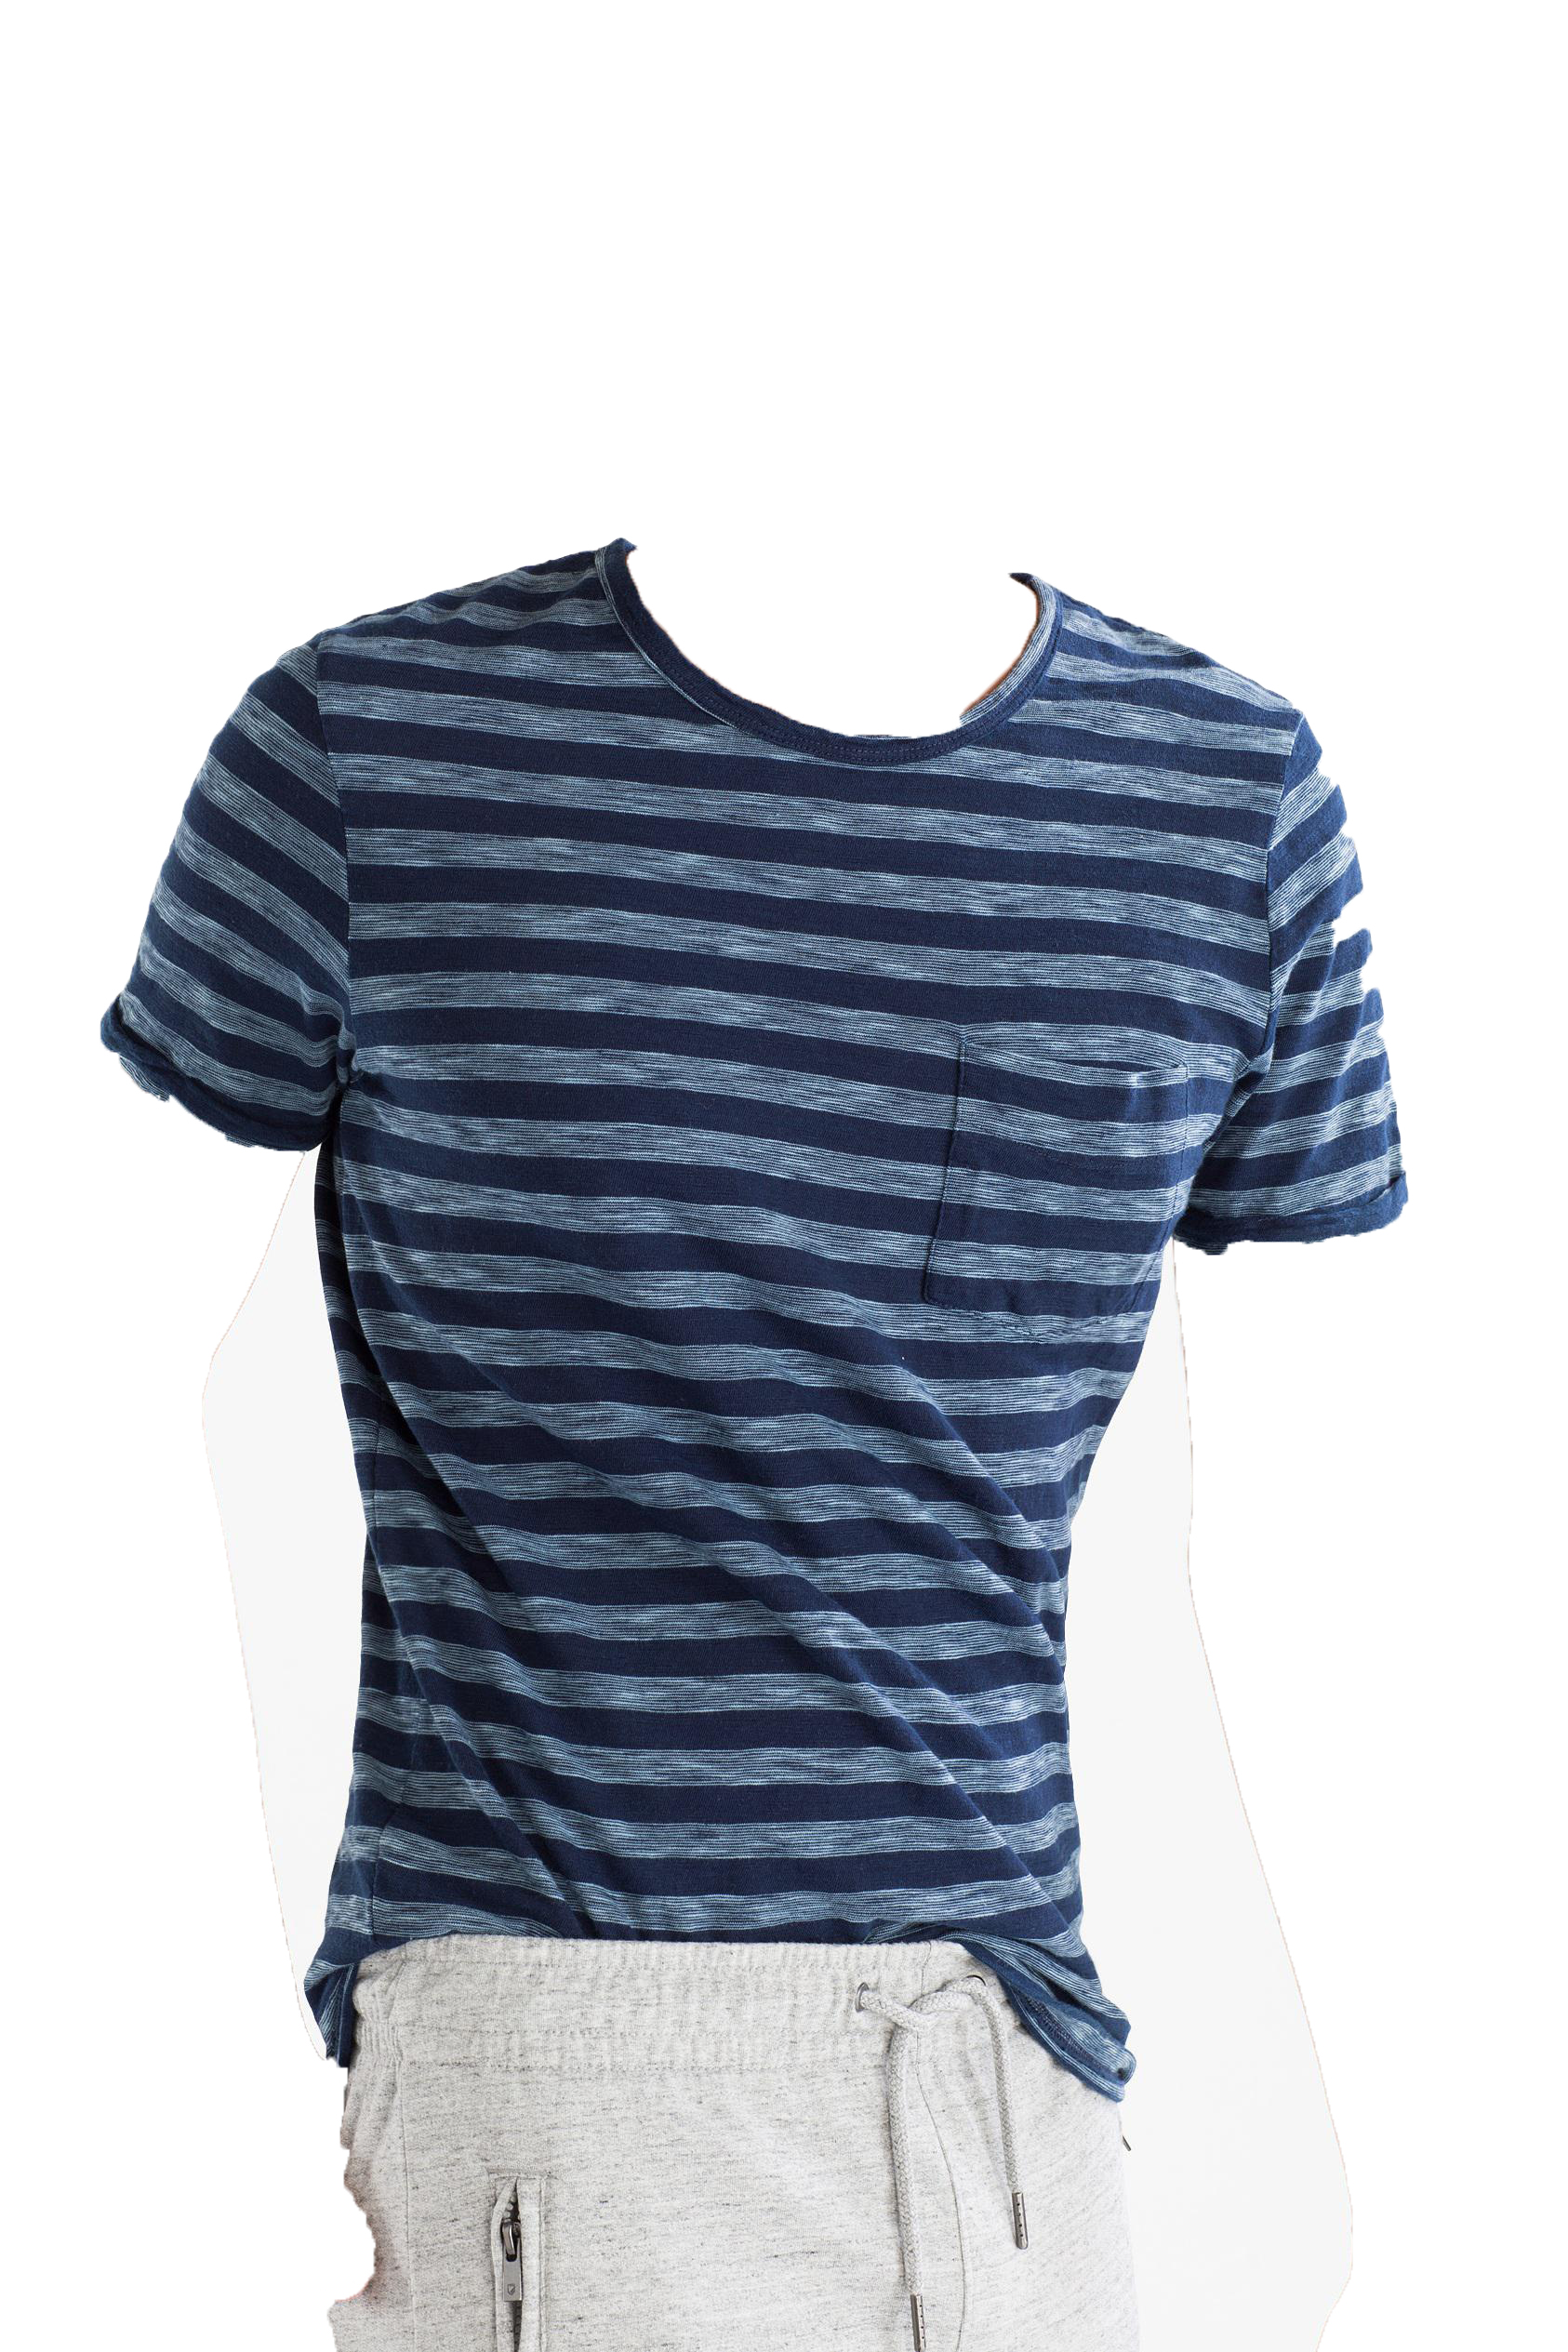teeshirt: (91, 525, 1437, 2091)
